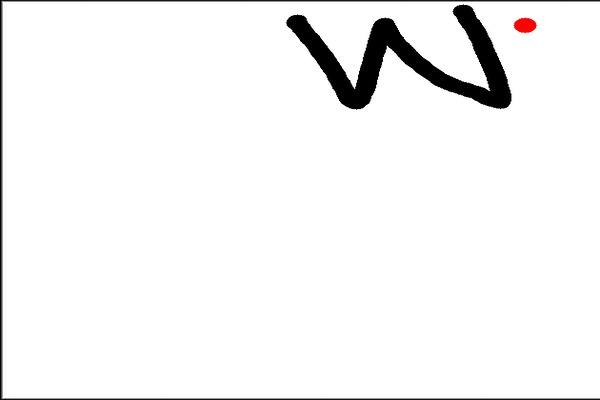w: (278, 1, 514, 117)
